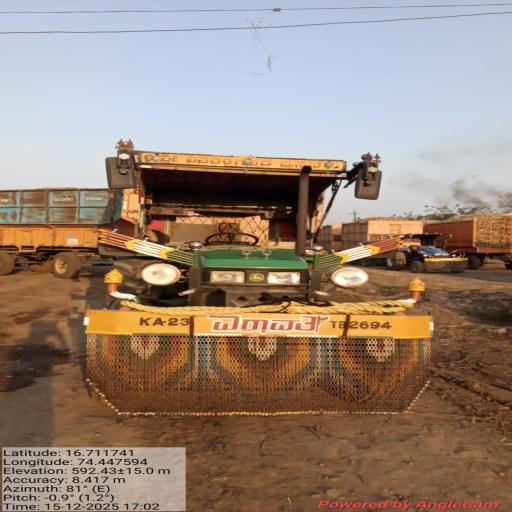number_plate: (118, 304, 201, 333), (322, 314, 400, 336)
